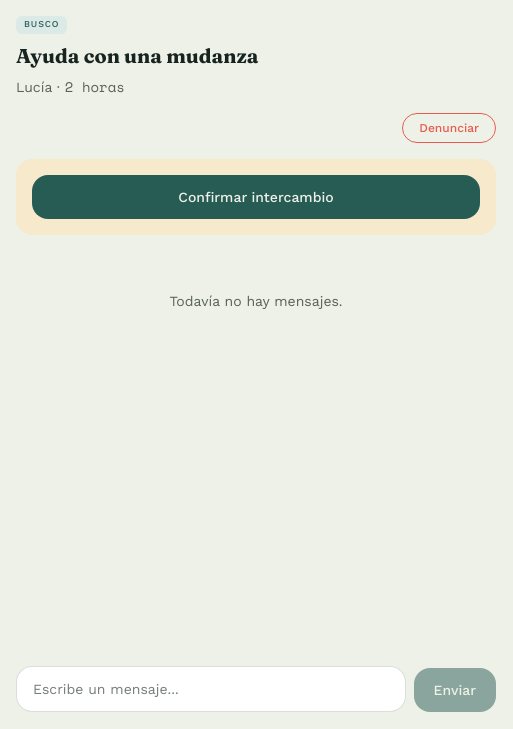
it: Confirmar intercambio desde el chat › la primera persona confirma y pasa a esperar a la otra
Click the button "Confirmar intercambio" at (256,197), box left=32, top=175, right=480, bottom=219
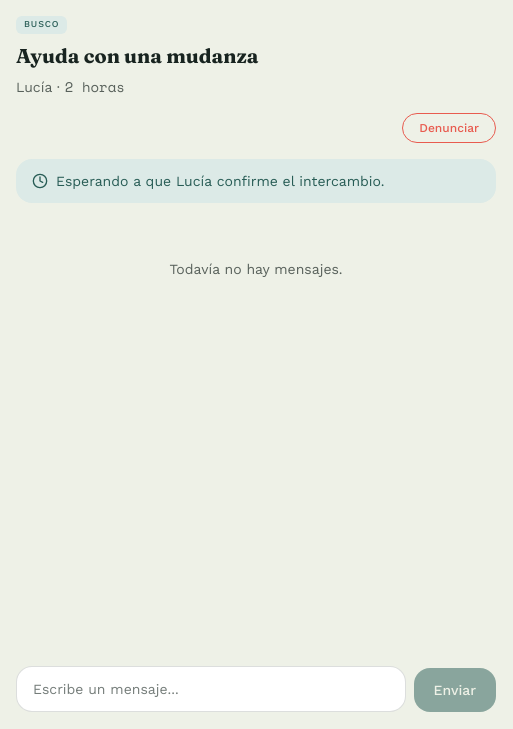
Expected: the text "Esperando a que Lucía confirme el intercambio." is shown, left=16, top=159, right=496, bottom=203
Expected: the button "Confirmar intercambio" is gone
